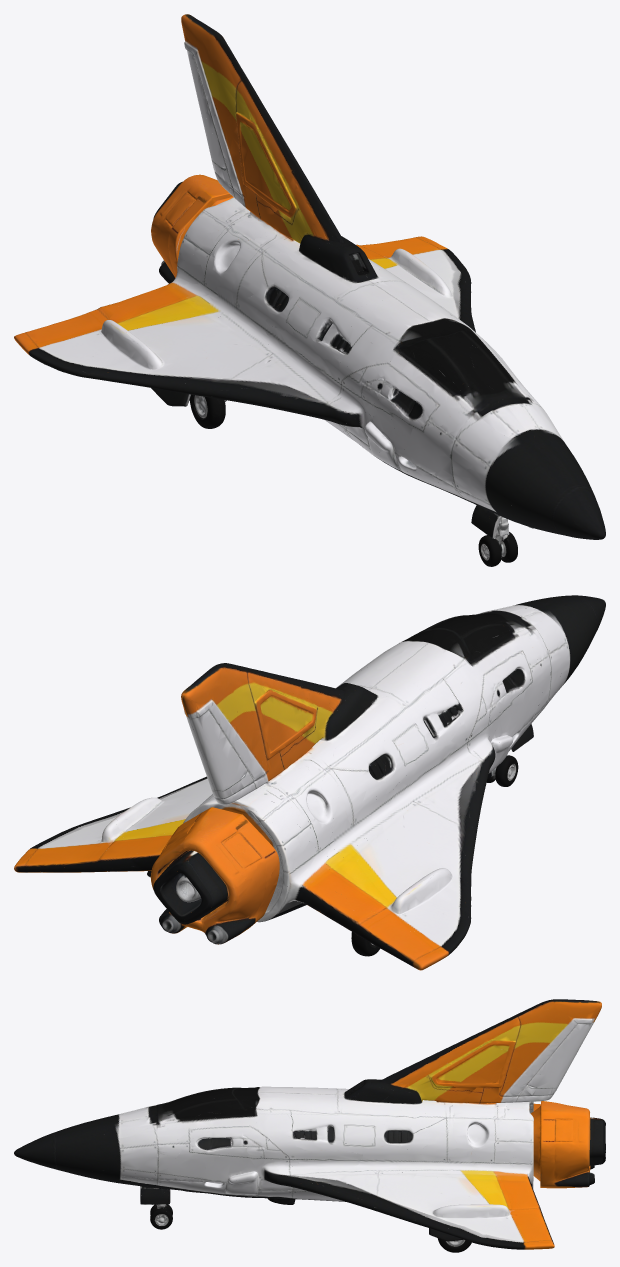
File: starliner-shuttle.glb
3 views of the same model, one above another, from view 1: azimuth 30°, elevation 25°; view 2: azimuth 150°, elevation 25°; view 3: azimuth 270°, elevation 25° (orthographic). The views are drawn at different scales.
Parts seen in each view (by area): view 1: starliner-shuttle; view 2: starliner-shuttle; view 3: starliner-shuttle.
Part boxes in pixels (x1=…): starliner-shuttle: x1=14, y1=14, x2=605, y2=566; starliner-shuttle: x1=14, y1=595, x2=605, y2=970; starliner-shuttle: x1=14, y1=999, x2=605, y2=1252.
Bounding box in the file's own units: 21.24 × 15.62 × 37.
Materials: 1 (1 with a texture image).
